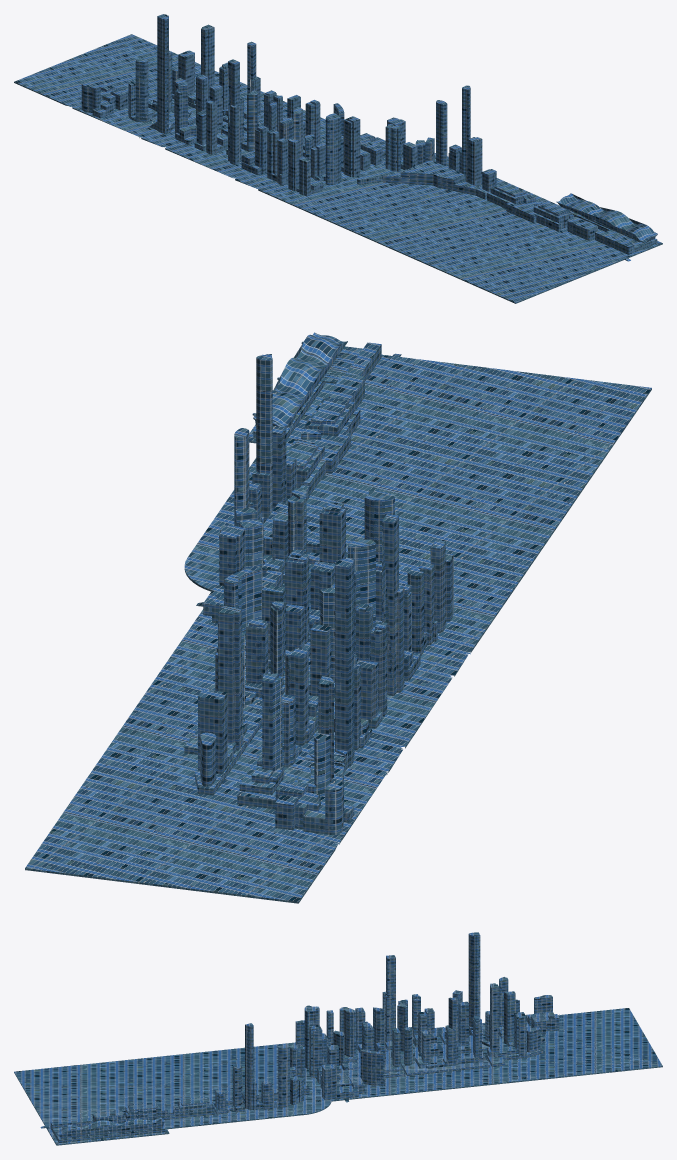
The model's file is sehir.obj.
The picture shows the model from 3 angles, top to bottom: view 1: azimuth 30°, elevation 25°; view 2: azimuth 150°, elevation 25°; view 3: azimuth 270°, elevation 25°; orthographic projection. The views are drawn at different scales.
Visible parts, largest first — view 1: yer; view 2: yer; view 3: yer.
Boxes of the visible parts, x1,y1,x2,y2 form: yer: (14, 14, 662, 303); yer: (25, 332, 651, 903); yer: (14, 932, 662, 1145).
Size of the model in its own units: 56869 by 19542 by 113849.
1 material, 1 textured.
